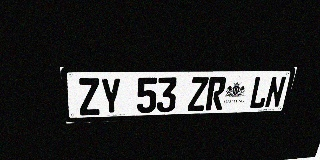3: (157, 77, 177, 113)
5: (137, 77, 157, 113)
L: (248, 76, 271, 109)
N: (264, 76, 287, 108)
R: (205, 77, 227, 111)
Y: (100, 78, 122, 115)
Z: (77, 78, 101, 116), (187, 77, 209, 111)
